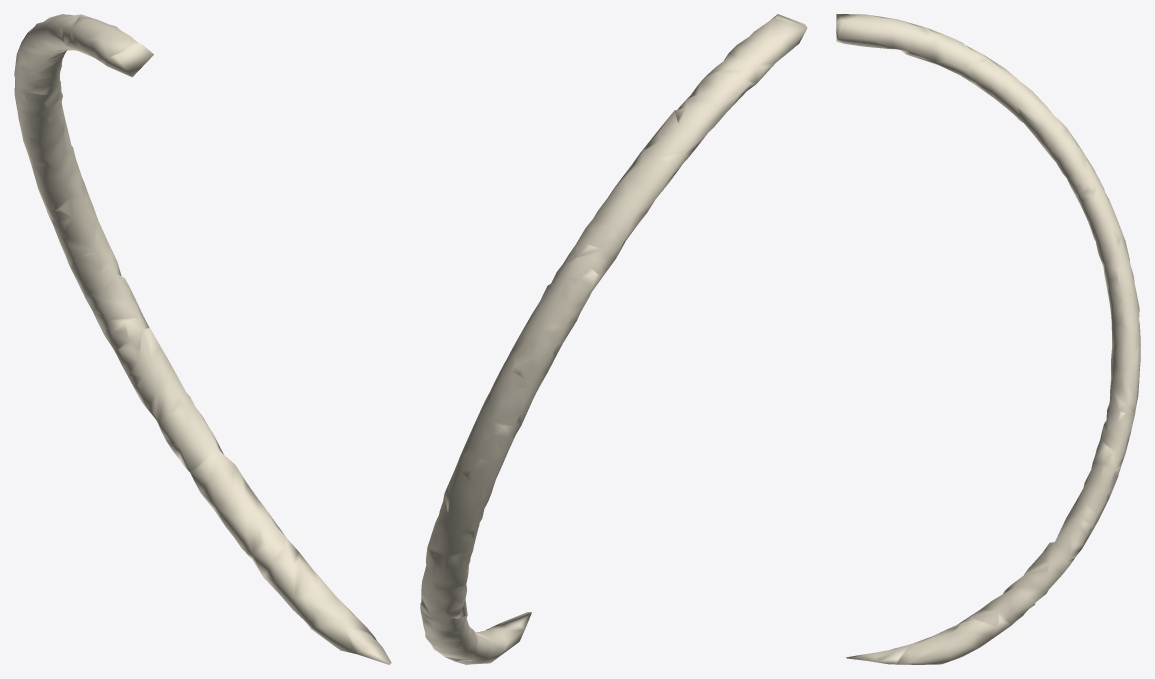
The model's file is rib_4_r.glb.
3 renders of one model, left to right at view 1: azimuth 30°, elevation 25°; view 2: azimuth 150°, elevation 25°; view 3: azimuth 270°, elevation 25°, orthographic. The views are drawn at different scales.
Visible parts, largest first — view 1: geometry_0; view 2: geometry_0; view 3: geometry_0.
Boxes of the visible parts, box(x1,y1,x2,y2) form: geometry_0: box(14, 14, 391, 664); geometry_0: box(420, 14, 807, 664); geometry_0: box(836, 14, 1140, 664).
Bounding box in the file's own units: 0.247 × 0.5369 × 0.2731.
